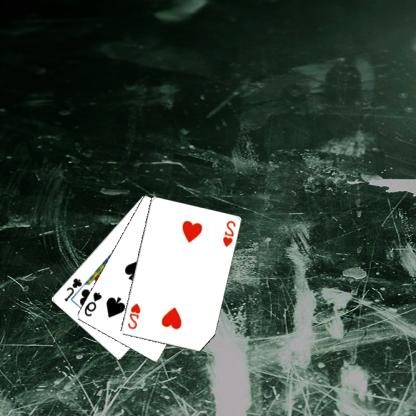2H: (222, 218, 238, 249), (127, 300, 143, 330)
6S: (83, 289, 104, 318)
JC: (63, 275, 85, 303)
